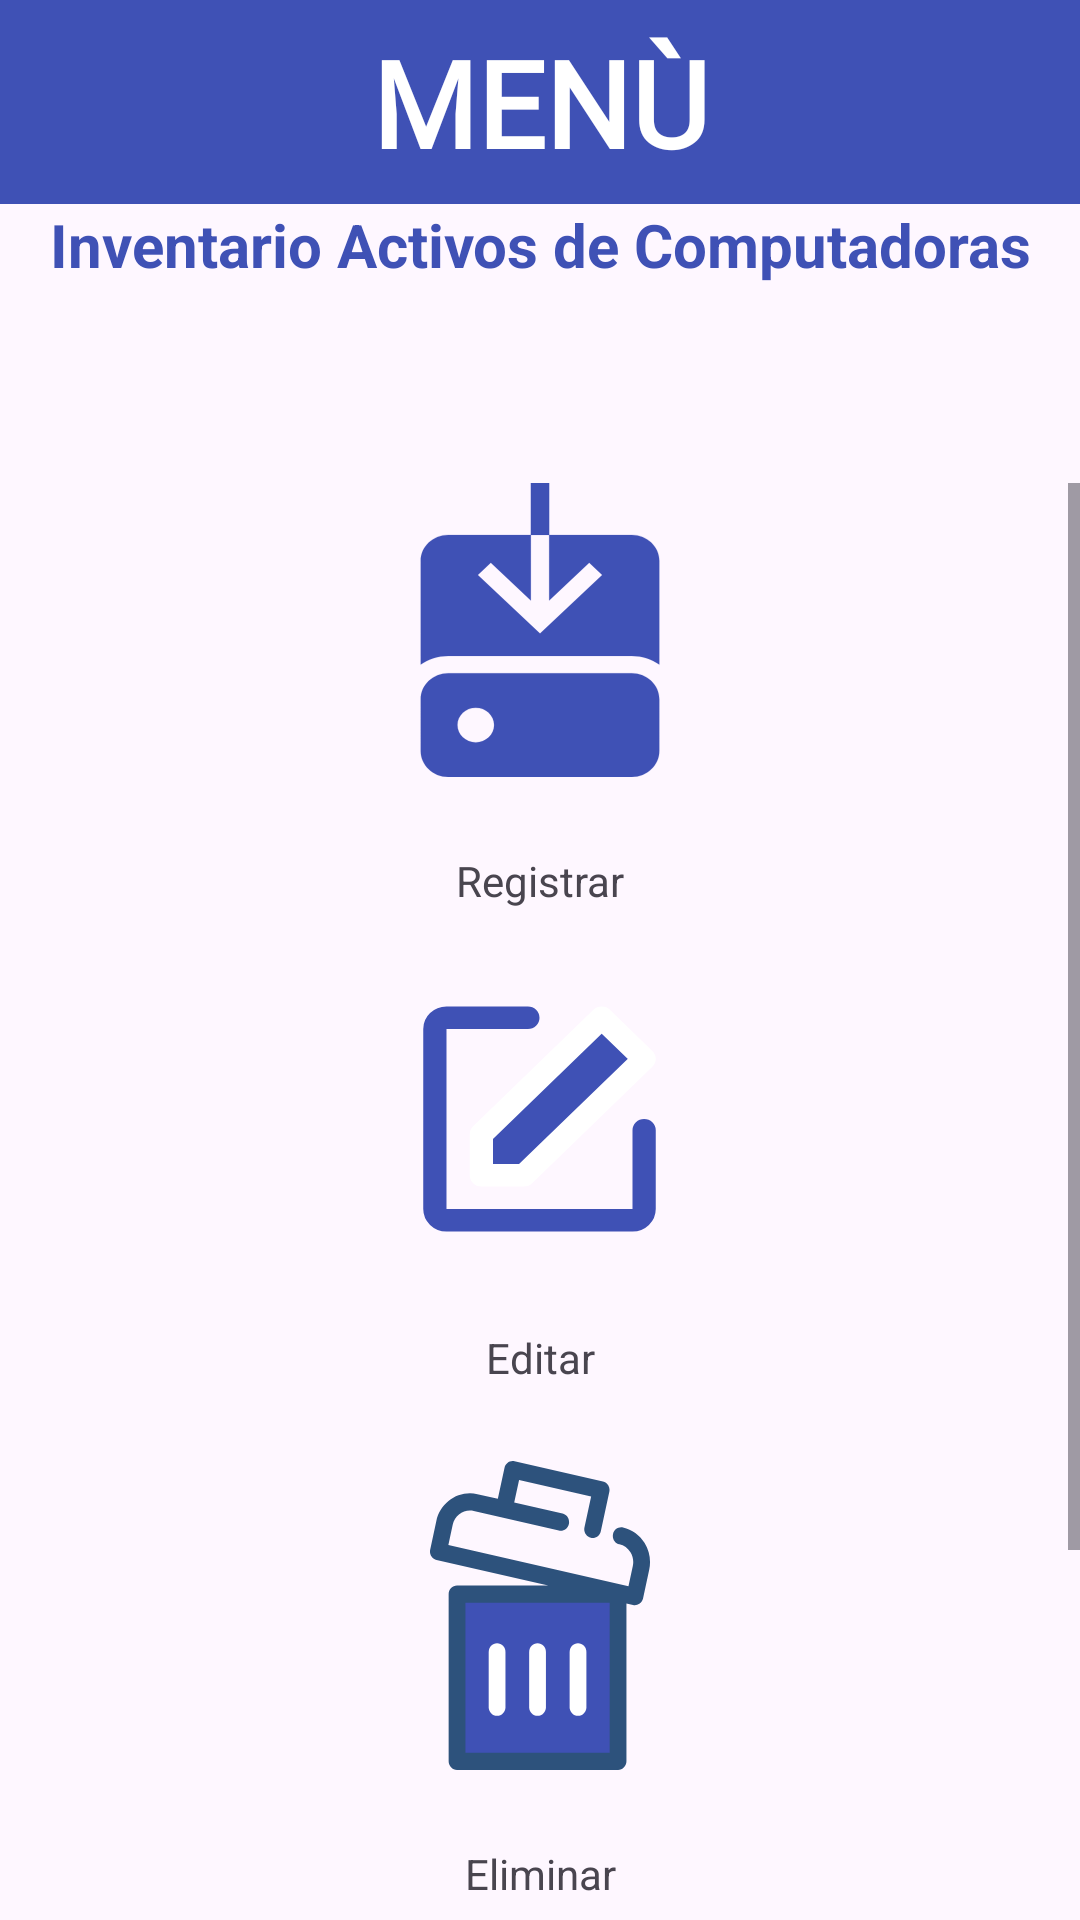

Point at icon controls on the screen. Image size 1080*1920, points as (x=x, y=y).
editable: (x=539, y=1119)
